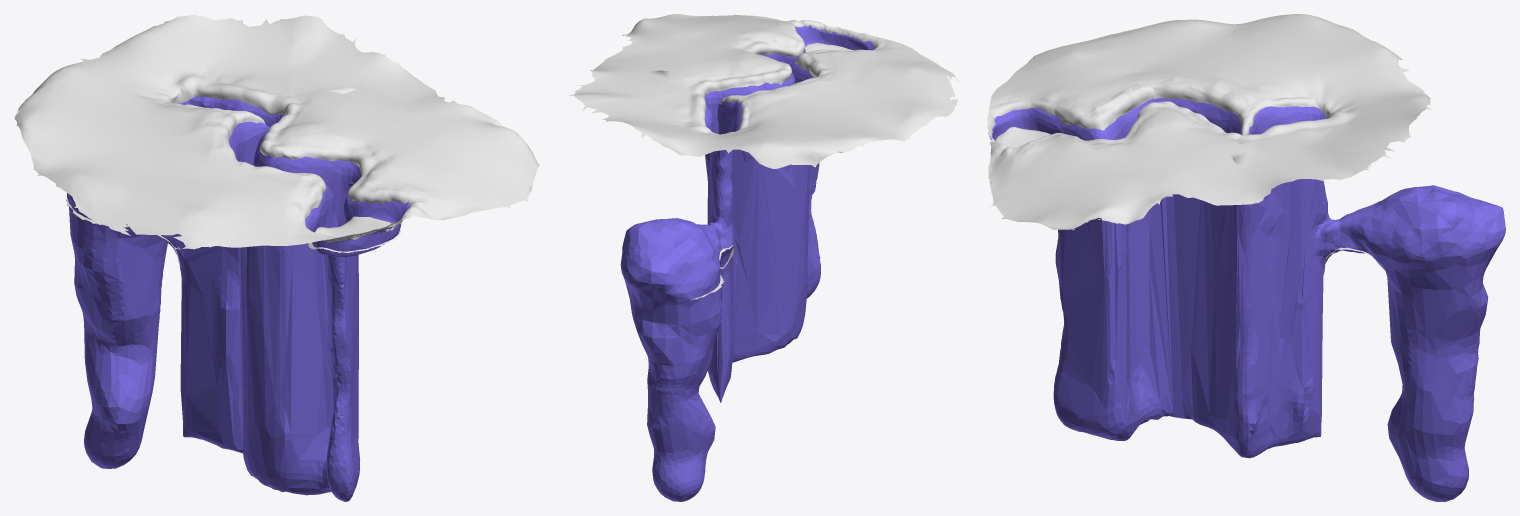
The model's file is EuropaSurfaceNew.fbx.
3 views of the same model, side by side, from view 1: azimuth 30°, elevation 25°; view 2: azimuth 150°, elevation 25°; view 3: azimuth 270°, elevation 25° (orthographic). The views are drawn at different scales.
Visible parts, largest first — view 1: SurfaceSnow, Moon, CraterSnow; view 2: Moon, SurfaceSnow; view 3: Moon, SurfaceSnow, CraterSnow.
Part boxes in pixels (x1,y1,x2,y2): SurfaceSnow: (14, 14, 539, 249); Moon: (67, 96, 409, 501); CraterSnow: (308, 216, 400, 252); Moon: (620, 25, 875, 501); SurfaceSnow: (570, 14, 958, 168); Moon: (989, 98, 1505, 501); SurfaceSnow: (987, 14, 1431, 230); CraterSnow: (995, 127, 1050, 148).
Size of what is drawn, in the model's own units: 2064 by 2098 by 2348.
